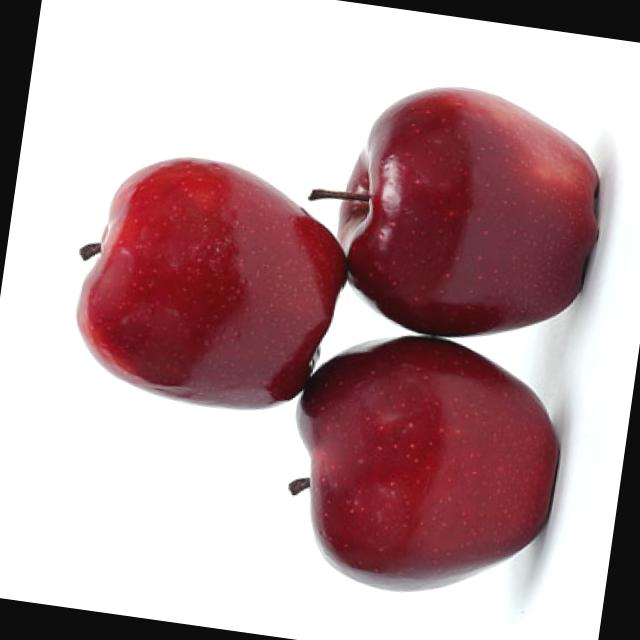alpple: (300, 67, 616, 350), (52, 134, 358, 426), (267, 320, 572, 608)
